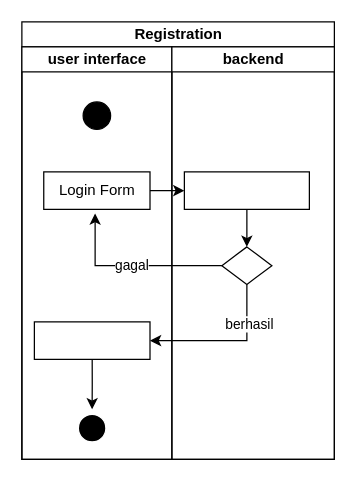
This 356x481 diagram has some shape labels left out. The centre of each missing label's shape, as x and y in pixels:
Home Page: point (91, 340)
Validasi: point (246, 190)
